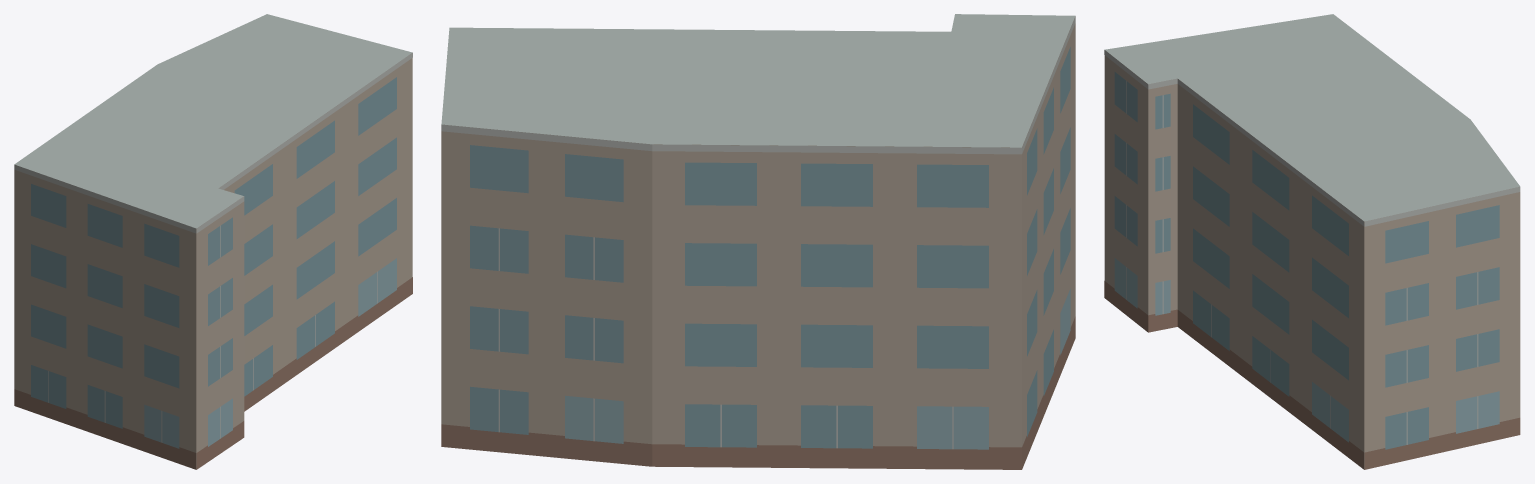
The model's file is survey-upis-32945262.glb.
The picture shows the model from 3 angles, left to right: view 1: azimuth 30°, elevation 25°; view 2: azimuth 150°, elevation 25°; view 3: azimuth 270°, elevation 25°; orthographic projection. The views are drawn at different scales.
Visible parts, largest first — view 1: survey-upis-32945262.tmp; view 2: survey-upis-32945262.tmp; view 3: survey-upis-32945262.tmp.
Part boxes in pixels (x1,y1,x2,y2): survey-upis-32945262.tmp: [14, 14, 412, 469]; survey-upis-32945262.tmp: [441, 14, 1075, 469]; survey-upis-32945262.tmp: [1104, 14, 1520, 469].
Bounding box in the file's own units: 20.63 × 11.5 × 17.47.
